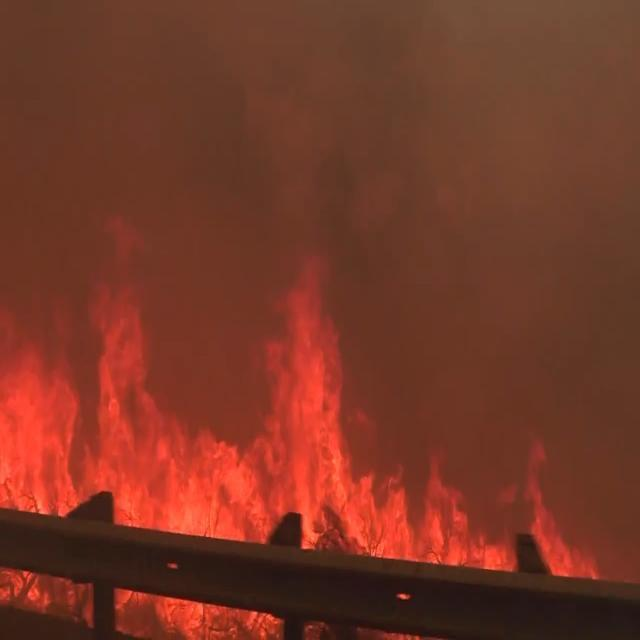Fire: (3, 230, 596, 640)
